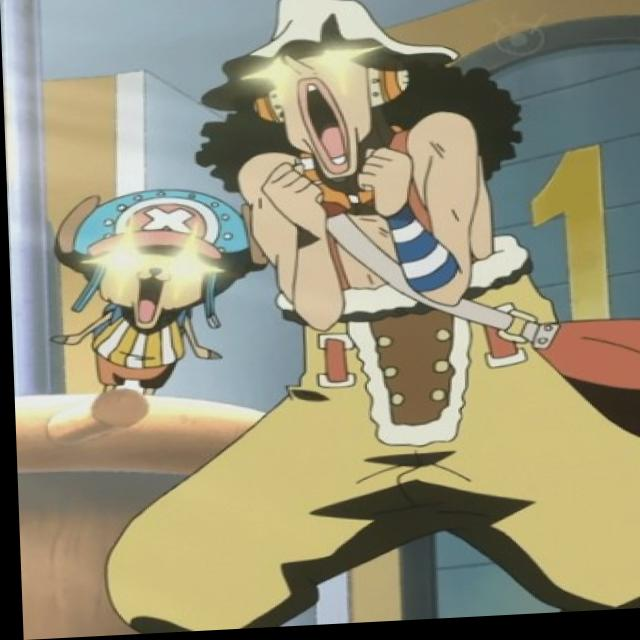Usopp: (202, 0, 522, 207)
